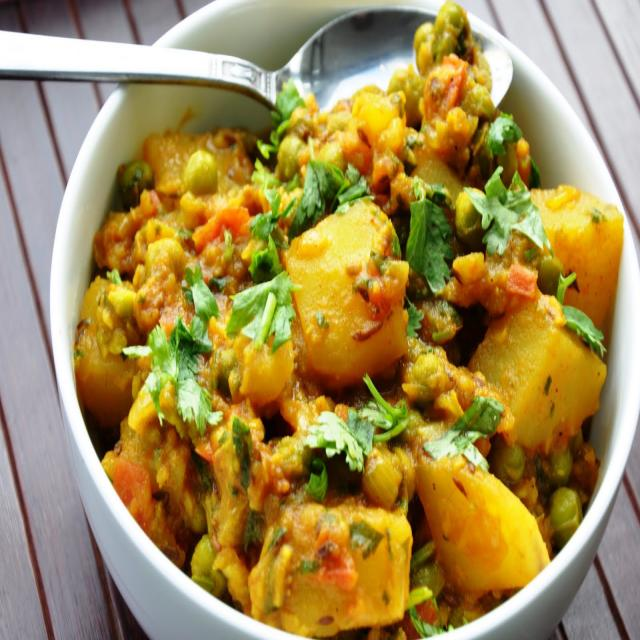Aloo Matar: (75, 39, 622, 626)
